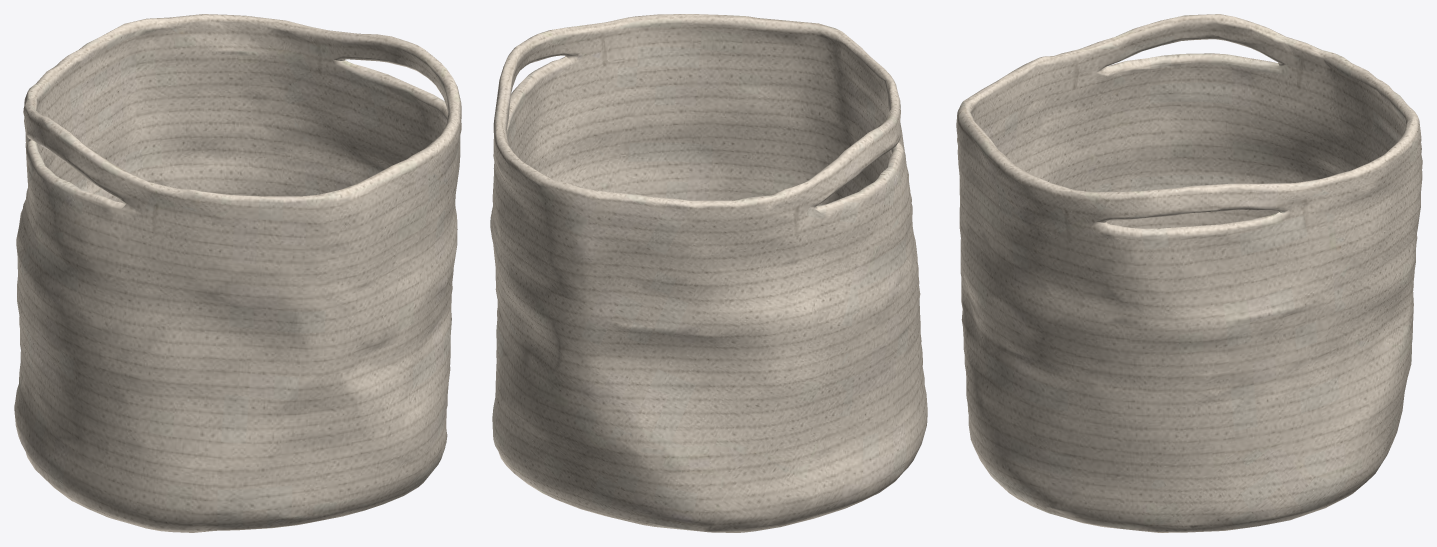
File: tjabbig_kosz_50532567.glb
The picture shows the model from 3 angles, left to right: view 1: azimuth 30°, elevation 25°; view 2: azimuth 150°, elevation 25°; view 3: azimuth 270°, elevation 25°; orthographic projection.
Parts seen in each view (by area): view 1: tjabbig_kosz_50532567; view 2: tjabbig_kosz_50532567; view 3: tjabbig_kosz_50532567.
Part boxes in pixels (x1=…): tjabbig_kosz_50532567: x1=14, y1=14, x2=461, y2=532; tjabbig_kosz_50532567: x1=490, y1=14, x2=927, y2=532; tjabbig_kosz_50532567: x1=956, y1=14, x2=1422, y2=532.
Size of the model in its own units: 0.2646 by 0.2385 by 0.2807.
Materials: 1 (1 with a texture image).
